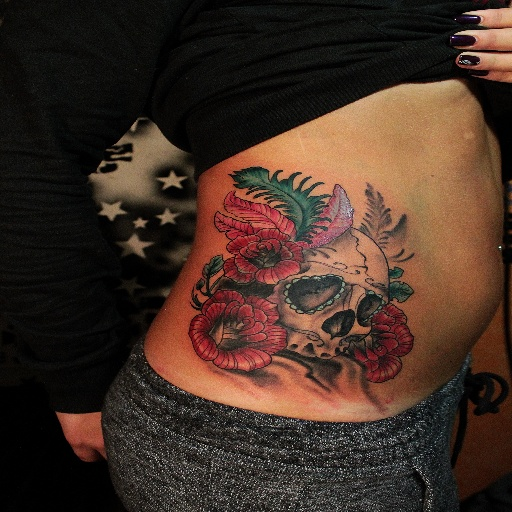hand: (435, 2, 512, 80), (51, 411, 106, 466)
